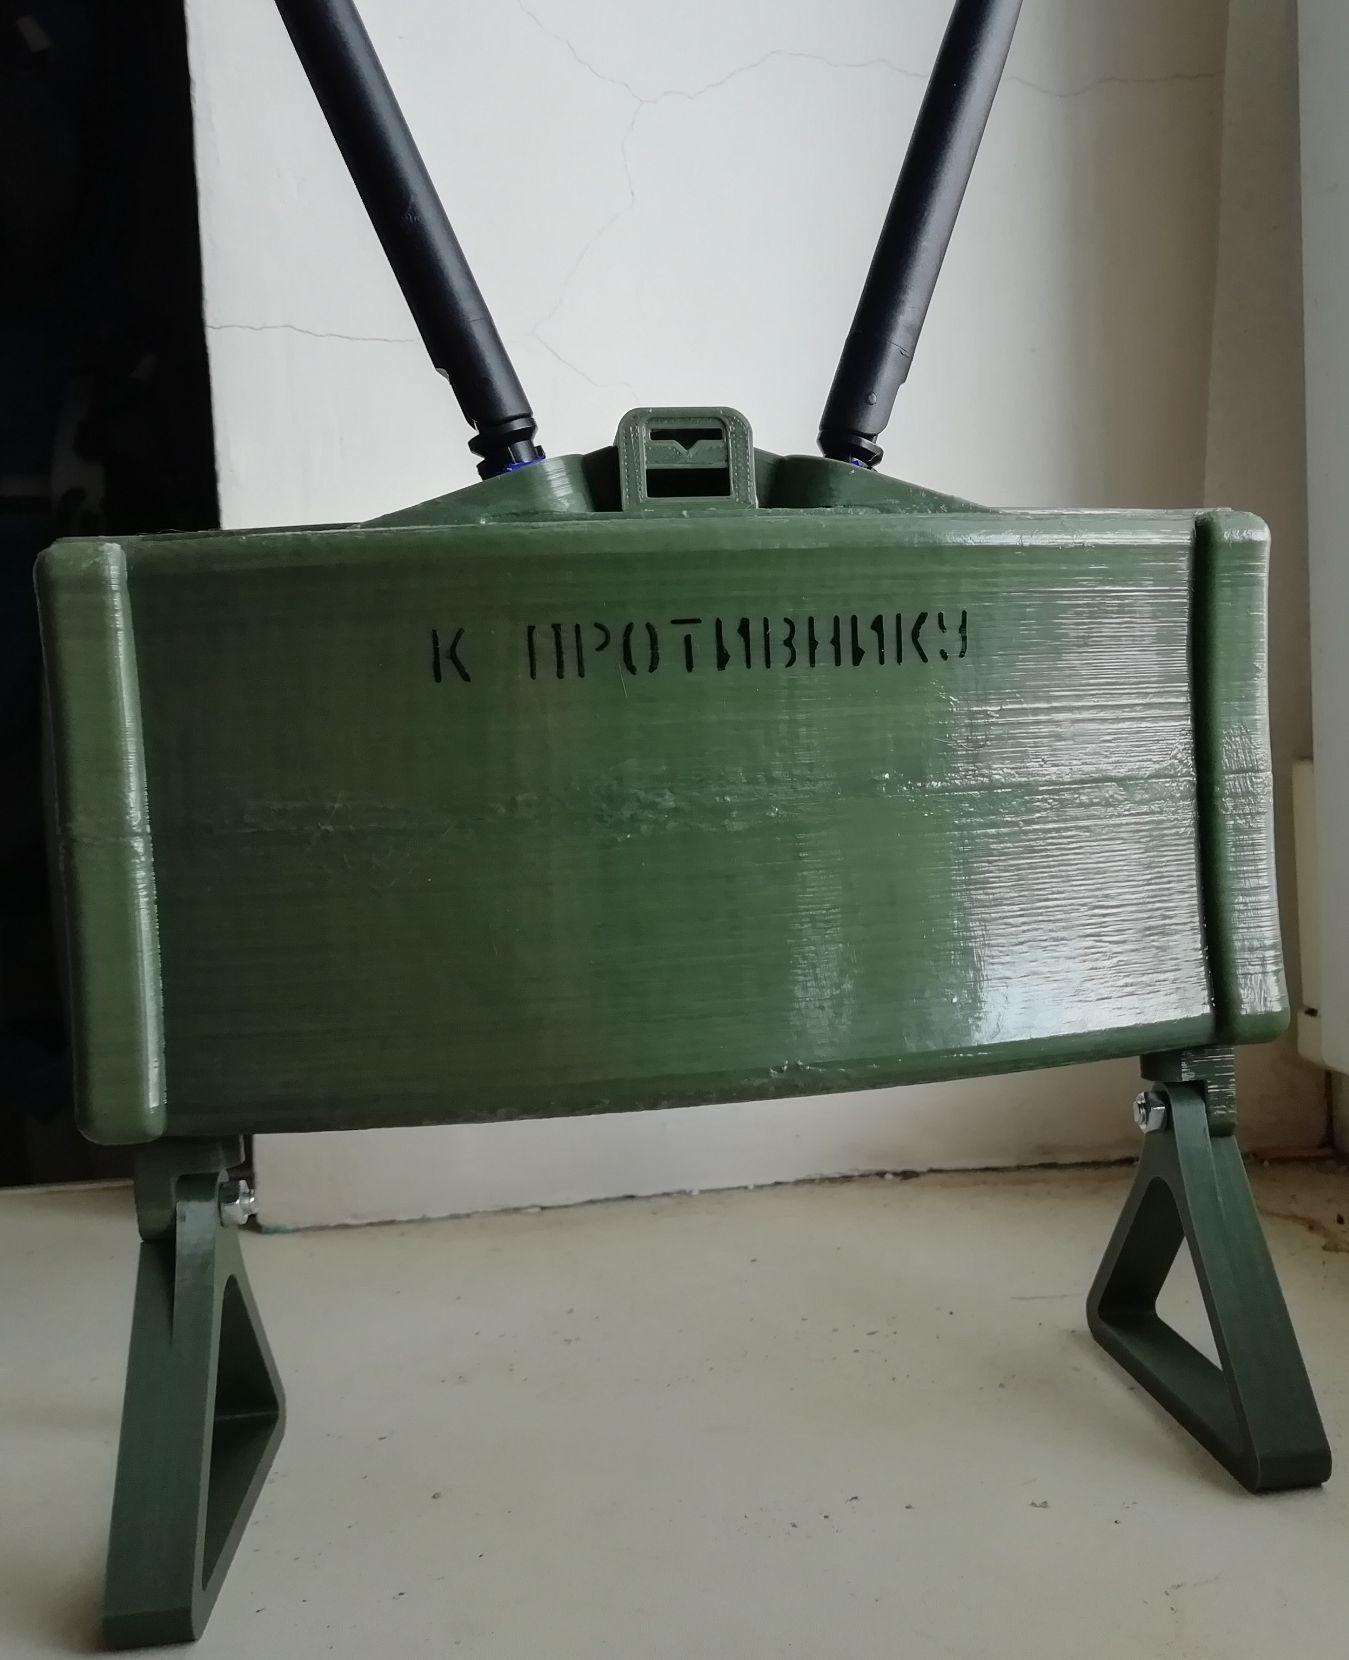MON 50: (39, 406, 1293, 1195)
